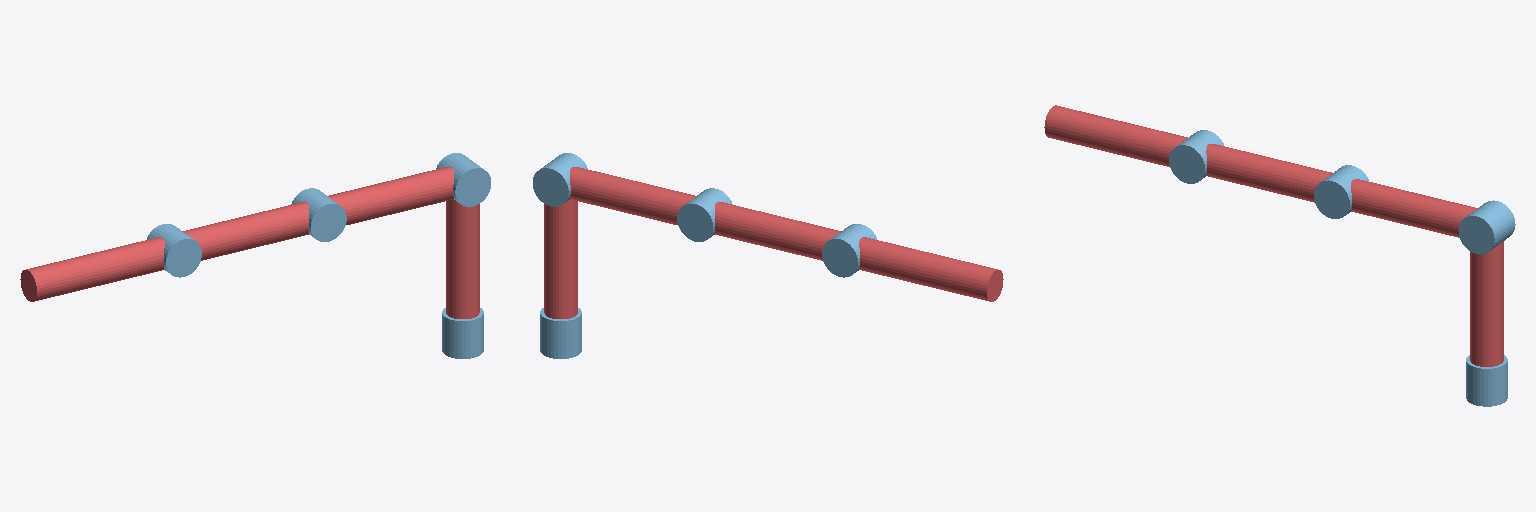
The robot description file, URDF, robot "robot":
<robot name='robot'>
	<material name='blue'>
		<color rgba='0 0 0.8 1'/>
	</material>
	<material name='red'>
		<color rgba='0.8 0 0 1'/>
	</material>
	<link name='a0'>
		<visual>
			<origin rpy='-0.0 0.0 0.0' xyz='0.0 0.0 0.0'/>
			<geometry>
				<cylinder length='0.1' radius='0.05'/>
			</geometry>
			<material name='blue'><color rgba='0.56 0.76 0.89 1'/></material>
		</visual>
	</link>
	<link name='l0'>
		<visual>
			<origin rpy='-0.0 0.0 0.0' xyz='0.0 0.0 0.2'/>
			<geometry>
				<cylinder length='0.4' radius='0.04'/>
			</geometry>
			<material name='red'><color rgba='0.88 0.43 0.44 1'/></material>
		</visual>
	</link>
	<joint name='move_l0_from_a0' type='continuous'>
		<parent link='a0'/>
		<child link='l0'/>
		<axis xyz='0.0 0.0 1.0'/>
		<origin rpy='0 0 0' xyz='0.0 0.0 0.0'/>
	</joint>
	<link name='a1'>
		<visual>
			<origin rpy='1.5707963267948966 0.0 0.0' xyz='0.0 0.0 0.4'/>
			<geometry>
				<cylinder length='0.1' radius='0.05'/>
			</geometry>
			<material name='blue'><color rgba='0.56 0.76 0.89 1'/></material>
		</visual>
	</link>
	<joint name='fix_a1_to_l0' type='fixed'>
		<parent link='l0'/>
		<child link='a1'/>
		<origin rpy='0 0 0' xyz='0 0 0'/>
	</joint>
	<link name='l1'>
		<visual>
			<origin rpy='-0.0 -1.5707963267948963 0.0' xyz='-0.2 -0.0 0.0'/>
			<geometry>
				<cylinder length='0.4' radius='0.04'/>
			</geometry>
			<material name='red'><color rgba='0.88 0.43 0.44 1'/></material>
		</visual>
	</link>
	<joint name='move_l1_from_a1' type='continuous'>
		<parent link='a1'/>
		<child link='l1'/>
		<axis xyz='0.0 -1.0 0.0'/>
		<origin rpy='0 0 0' xyz='0.0 0.0 0.4'/>
	</joint>
	<link name='a2'>
		<visual>
			<origin rpy='1.5707963267948966 0.0 0.0' xyz='-0.4 -0.0 0.0'/>
			<geometry>
				<cylinder length='0.1' radius='0.05'/>
			</geometry>
			<material name='blue'><color rgba='0.56 0.76 0.89 1'/></material>
		</visual>
	</link>
	<joint name='fix_a2_to_l1' type='fixed'>
		<parent link='l1'/>
		<child link='a2'/>
		<origin rpy='0 0 0' xyz='0 0 0'/>
	</joint>
	<link name='l2'>
		<visual>
			<origin rpy='-0.0 -1.5707963267948963 0.0' xyz='-0.2 -0.0 0.0'/>
			<geometry>
				<cylinder length='0.4' radius='0.04'/>
			</geometry>
			<material name='red'><color rgba='0.88 0.43 0.44 1'/></material>
		</visual>
	</link>
	<joint name='move_l2_from_a2' type='continuous'>
		<parent link='a2'/>
		<child link='l2'/>
		<axis xyz='0.0 -1.0 0.0'/>
		<origin rpy='0 0 0' xyz='-0.4 -0.0 0.0'/>
	</joint>
	<link name='a3'>
		<visual>
			<origin rpy='1.5707963267948966 0.0 0.0' xyz='-0.4 -0.0 0.0'/>
			<geometry>
				<cylinder length='0.1' radius='0.05'/>
			</geometry>
			<material name='blue'><color rgba='0.56 0.76 0.89 1'/></material>
		</visual>
	</link>
	<joint name='fix_a3_to_l2' type='fixed'>
		<parent link='l2'/>
		<child link='a3'/>
		<origin rpy='0 0 0' xyz='0 0 0'/>
	</joint>
	<link name='l3'>
		<visual>
			<origin rpy='-0.0 -1.5707963267948963 0.0' xyz='-0.2 -0.0 0.0'/>
			<geometry>
				<cylinder length='0.4' radius='0.04'/>
			</geometry>
			<material name='red'><color rgba='0.88 0.43 0.44 1'/></material>
		</visual>
	</link>
	<joint name='move_l3_from_a3' type='continuous'>
		<parent link='a3'/>
		<child link='l3'/>
		<axis xyz='0.0 -1.0 0.0'/>
		<origin rpy='0 0 0' xyz='-0.4 -0.0 0.0'/>
	</joint>
</robot>

--- Render facts (derived) ---
The picture shows the robot from 3 angles, left to right: view 1: azimuth 30°, elevation 25°; view 2: azimuth 150°, elevation 25°; view 3: azimuth 330°, elevation 25°; orthographic projection.
Robot: robot — 8 links, 7 joints (4 continuous, 3 fixed); root link a0; default pose: all joints at 0.
Visible links, largest first — view 1: l3, l0, l2, l1, a0, a1, a2, a3; view 2: l3, l0, l2, l1, a0, a1, a2, a3; view 3: l3, l0, l1, l2, a1, a0, a2, a3.
Boxes of the visible links, x1,y1,x2,y2 form: l3: [20, 237, 164, 301]; l0: [446, 199, 479, 318]; l2: [183, 202, 308, 260]; l1: [328, 167, 453, 224]; a0: [442, 308, 483, 358]; a1: [436, 153, 490, 206]; a2: [291, 188, 346, 241]; a3: [147, 224, 201, 277]; l3: [859, 237, 1003, 301]; l0: [544, 199, 577, 318]; l2: [715, 202, 840, 260]; l1: [570, 167, 695, 224]; a0: [540, 308, 581, 358]; a1: [533, 153, 587, 206]; a2: [677, 188, 732, 241]; a3: [822, 224, 876, 277]; l3: [1044, 105, 1187, 166]; l0: [1470, 241, 1503, 366]; l1: [1351, 179, 1477, 237]; l2: [1206, 144, 1332, 202]; a1: [1458, 200, 1515, 254]; a0: [1466, 355, 1507, 406]; a2: [1314, 165, 1368, 218]; a3: [1169, 130, 1223, 183].
Bounding box of the posed robot: 1.25 × 0.1 × 0.5 m (x, y, z).
Geometry: primitives only (box / cylinder / sphere), no mesh files.